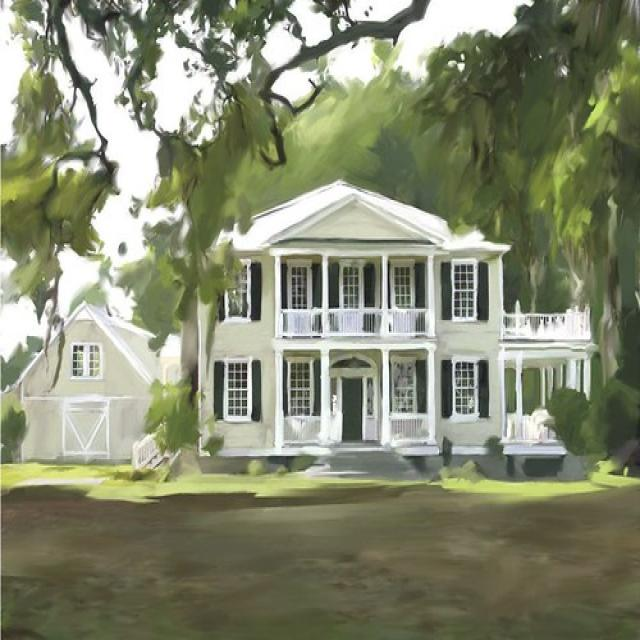building: (192, 182, 594, 464), (13, 298, 180, 458)
